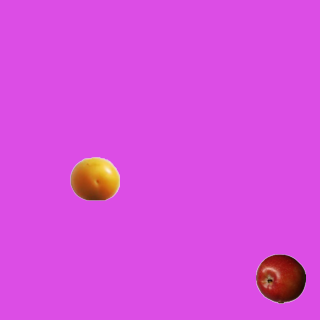Apple Braeburn: (255, 253, 305, 303)
Cherry Wax Yellow: (69, 153, 119, 203)
